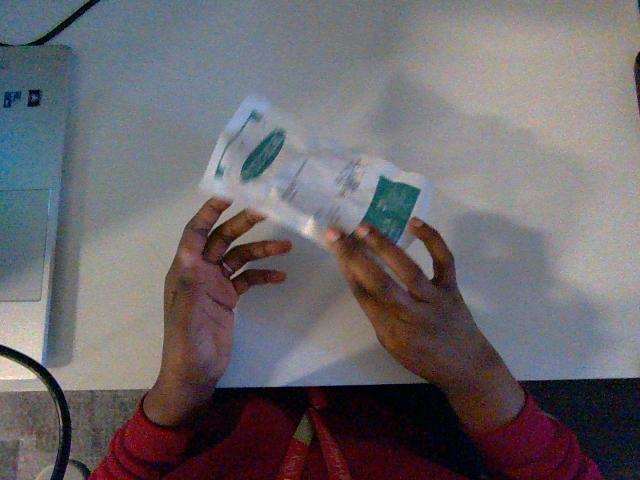gallipot: (200, 97, 431, 247)
